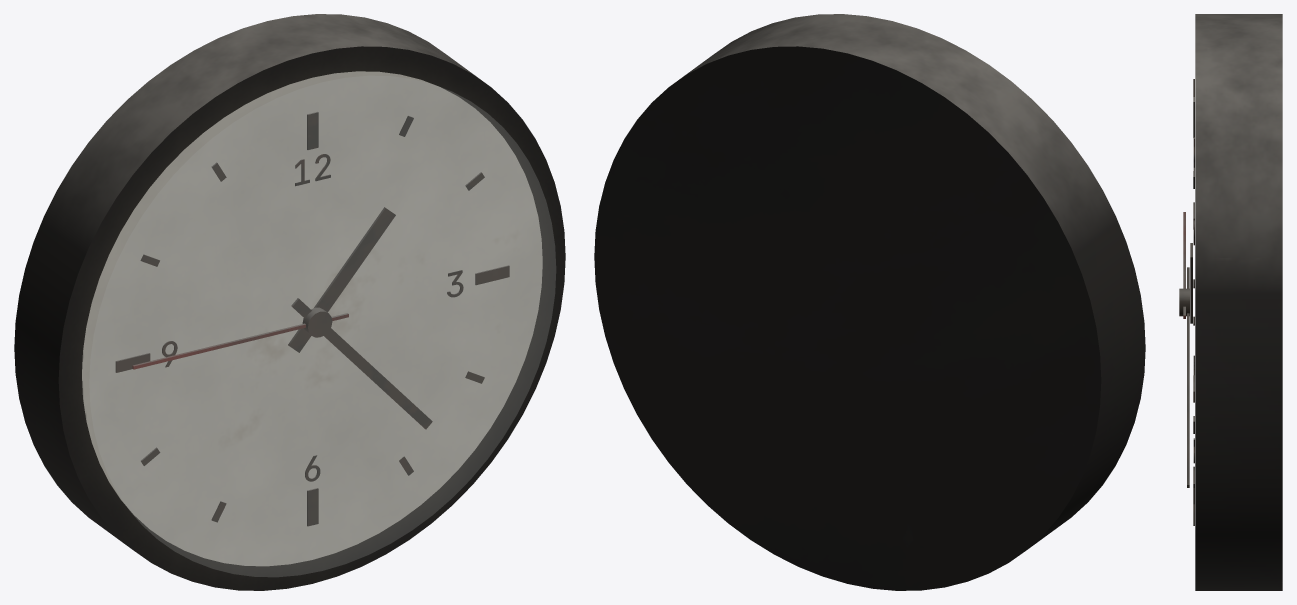
Rendered from SM_WallClock_Stopped_0123.fbx.
The picture shows the model from 3 angles, left to right: view 1: azimuth 30°, elevation 25°; view 2: azimuth 150°, elevation 25°; view 3: azimuth 270°, elevation 25°; orthographic projection.
Parts seen in each view (by area): view 1: SM_WallClock_Stopped_0123; view 2: SM_WallClock_Stopped_0123; view 3: SM_WallClock_Stopped_0123.
Part boxes in pixels (x1,y1,x2,y2): SM_WallClock_Stopped_0123: (14, 14, 565, 590); SM_WallClock_Stopped_0123: (594, 14, 1145, 590); SM_WallClock_Stopped_0123: (1179, 14, 1282, 590).
Bounding box in the file's own units: 0.33 × 0.33 × 0.062.
Materials: 2 (1 with a texture image).
